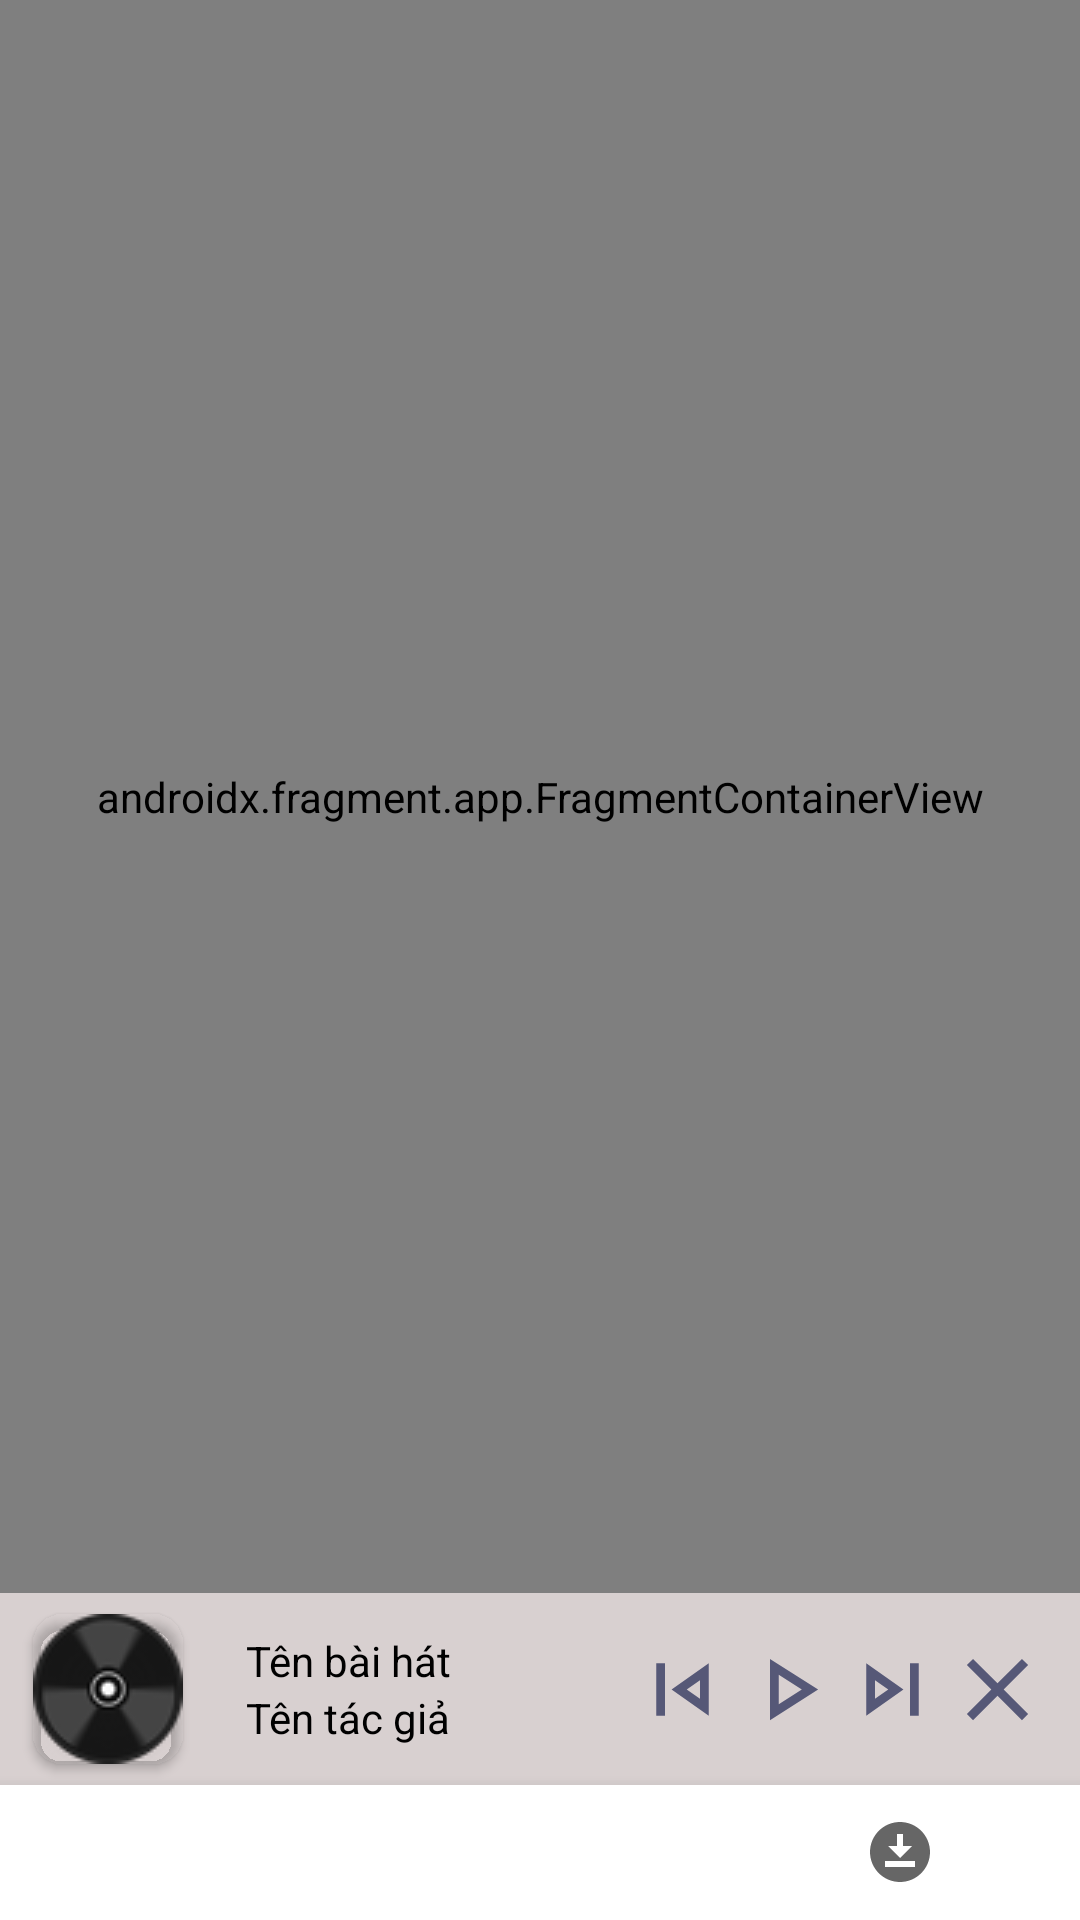

Point at icon controls on the screen. Image size 1080×1920, points as [x,y].
clear: [997,1689]
music mini: [108,1689]
play arrow: [794,1689]
skip next: [892,1689]
